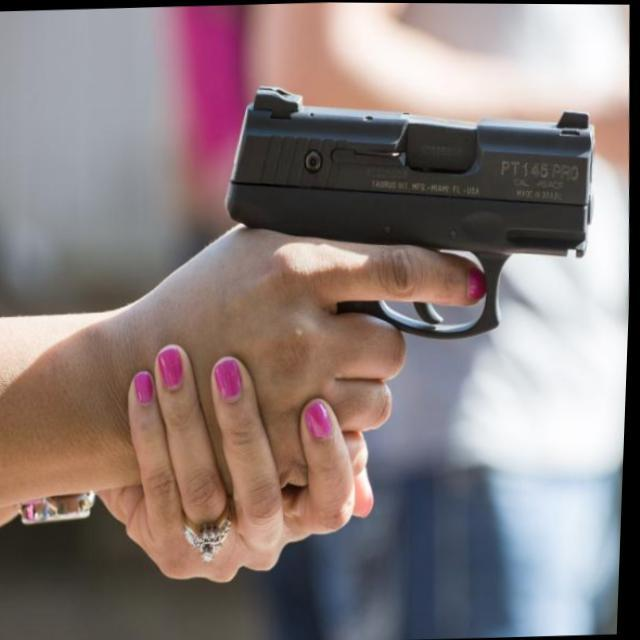weapon: (217, 70, 605, 348)
